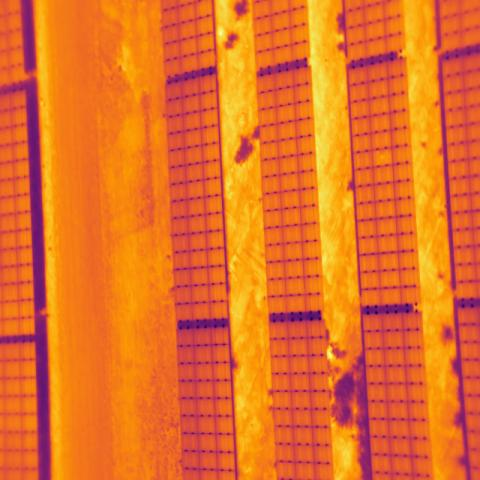fault: (371, 148, 392, 169)
